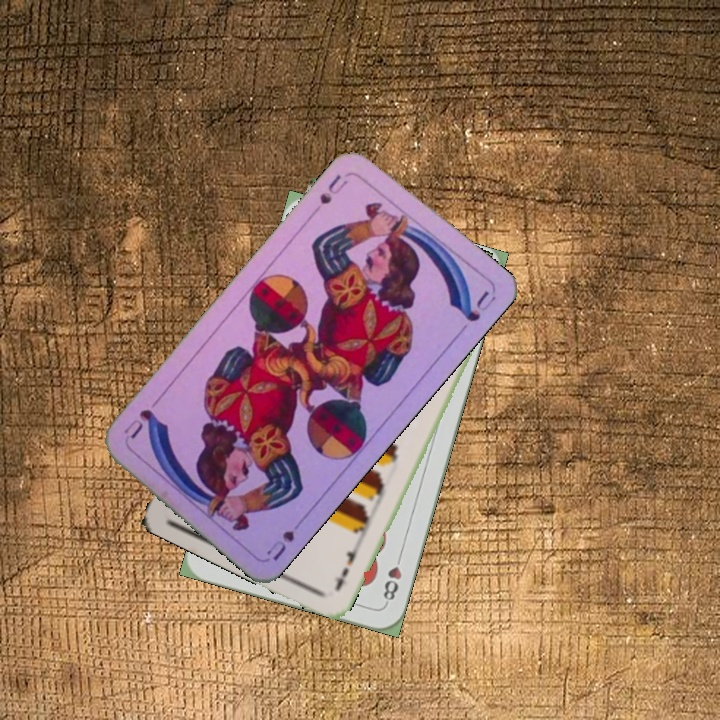E7: (331, 538, 363, 594)
H8: (379, 549, 405, 607)
SU: (262, 512, 309, 564), (308, 169, 353, 217)
